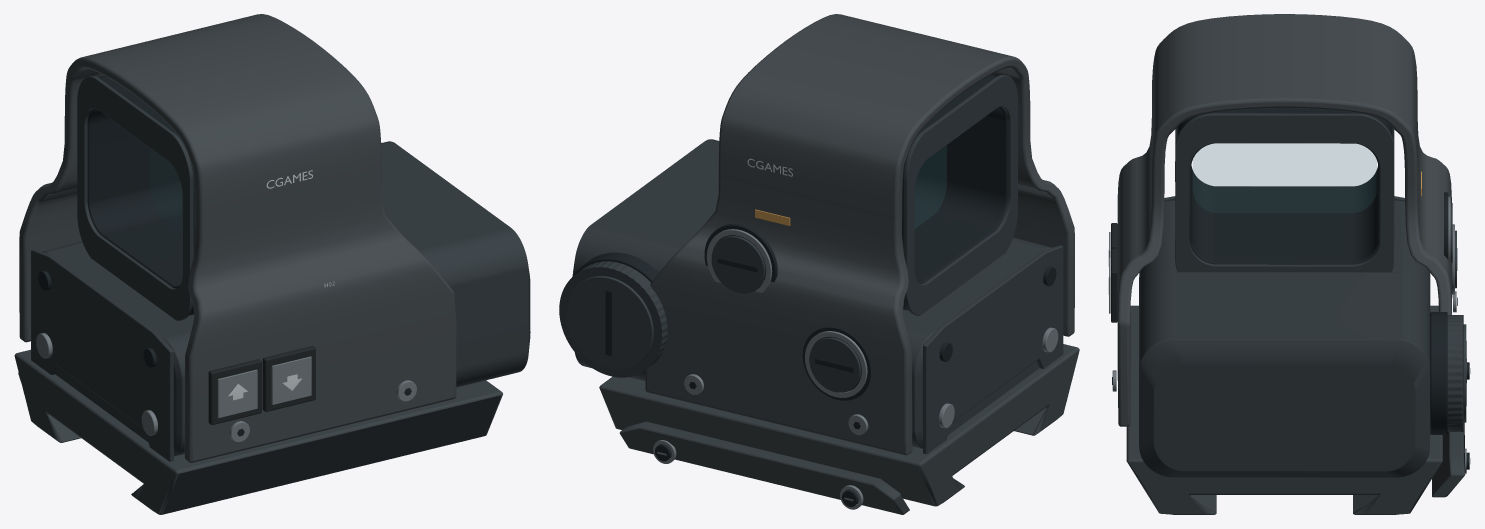
File: H02_Holo_A5_Rail.glb
3 views of the same model, side by side, from view 1: azimuth 30°, elevation 25°; view 2: azimuth 150°, elevation 25°; view 3: azimuth 270°, elevation 25° (orthographic). The views are drawn at different scales.
Visible parts, largest first — view 1: 01 open protective U hood, 02 rounded forward casing, 04 undercut adapter bridge, 02 rear visible face plate, 03 inner window structural frame, 03 window rim rear, 03 transparent visual pane, 05 left button face, 05 left button face.001, 05 left button gasket, 05 left button gasket.001; view 2: 01 open protective U hood, 04 undercut adapter bridge, 02 rounded forward casing, 02 rear visible face plate, 03 inner window structural frame, 03 window rim rear, 04 independent right side strip, 05 front cap center, 05 front cap fine grip, 05 right inset disk, 05 right inset disk.001, 03 transparent visual pane (+5 smaller); view 3: 02 rounded forward casing, 01 open protective U hood, 03 inner window structural frame, 03 transparent visual pane, 03 window rim front, 04 undercut adapter bridge, 05 front side cap seat, 05 front cap fine grip, 04 independent right side strip, 05 left button gasket.
Boxes of the visible parts, bbox=[...] form: 01 open protective U hood: bbox=[19, 14, 456, 462]; 02 rounded forward casing: bbox=[42, 141, 530, 456]; 04 undercut adapter bridge: bbox=[14, 349, 502, 514]; 02 rear visible face plate: bbox=[31, 249, 173, 461]; 03 inner window structural frame: bbox=[87, 75, 195, 315]; 03 window rim rear: bbox=[77, 76, 193, 320]; 03 transparent visual pane: bbox=[150, 148, 182, 231]; 05 left button face: bbox=[271, 356, 311, 404]; 05 left button face.001: bbox=[217, 369, 257, 418]; 05 left button gasket: bbox=[262, 346, 315, 411]; 05 left button gasket.001: bbox=[208, 359, 261, 424]; 01 open protective U hood: bbox=[645, 14, 1074, 455]; 04 undercut adapter bridge: bbox=[599, 344, 1079, 506]; 02 rounded forward casing: bbox=[572, 139, 1052, 448]; 02 rear visible face plate: bbox=[923, 245, 1063, 454]; 03 inner window structural frame: bbox=[902, 74, 1007, 310]; 03 window rim rear: bbox=[903, 75, 1017, 315]; 04 independent right side strip: bbox=[619, 421, 909, 514]; 05 front cap center: bbox=[566, 276, 653, 369]; 05 front cap fine grip: bbox=[559, 261, 667, 377]; 05 right inset disk: bbox=[711, 236, 765, 293]; 05 right inset disk.001: bbox=[809, 337, 860, 392]; 03 transparent visual pane: bbox=[914, 145, 946, 228]; 02 rounded forward casing: bbox=[1139, 200, 1430, 477]; 01 open protective U hood: bbox=[1117, 14, 1451, 426]; 03 inner window structural frame: bbox=[1177, 108, 1392, 264]; 03 transparent visual pane: bbox=[1193, 143, 1376, 212]; 03 window rim front: bbox=[1175, 113, 1394, 272]; 04 undercut adapter bridge: bbox=[1126, 305, 1442, 514]; 05 front side cap seat: bbox=[1430, 312, 1447, 434]; 05 front cap fine grip: bbox=[1447, 315, 1463, 431]; 04 independent right side strip: bbox=[1432, 422, 1465, 497]; 05 left button gasket: bbox=[1111, 248, 1117, 322].
Bounding box in the file's own units: 0.0833 × 0.0813 × 0.0731.
